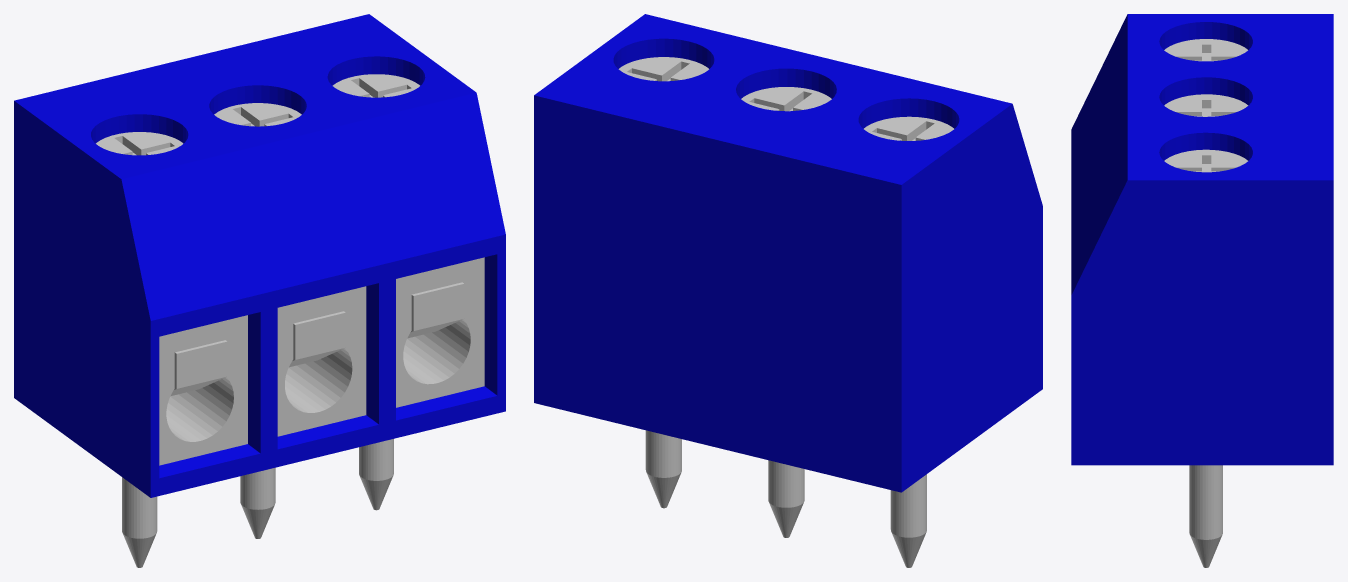
3 renders of one model, left to right at view 1: azimuth 30°, elevation 25°; view 2: azimuth 150°, elevation 25°; view 3: azimuth 270°, elevation 25°, orthographic. The views are drawn at different scales.
Visible parts, largest first — view 1: SCREWTERMINAL-3_5MM-3; view 2: SCREWTERMINAL-3_5MM-3; view 3: SCREWTERMINAL-3_5MM-3.
Part boxes in pixels (x1,y1,x2,y2): SCREWTERMINAL-3_5MM-3: [14, 14, 505, 567]; SCREWTERMINAL-3_5MM-3: [534, 14, 1042, 567]; SCREWTERMINAL-3_5MM-3: [1071, 14, 1333, 567].
Bounding box in the file's own units: 10.5 × 7 × 12.2.
